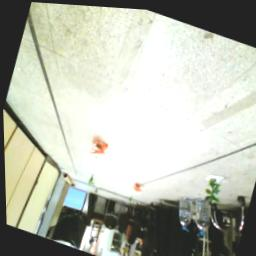herb: (201, 172, 226, 206), (86, 173, 97, 186)
wild: (89, 137, 112, 159), (132, 180, 144, 194)
